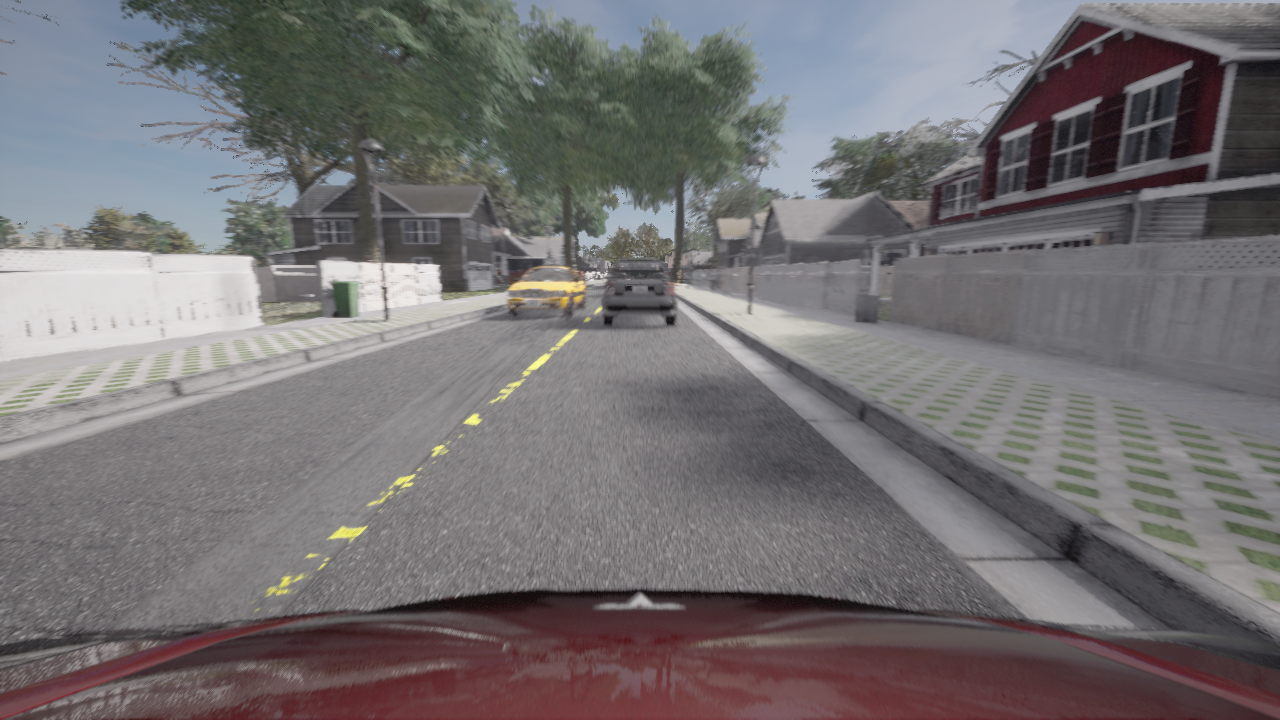cyclist: (0, 588, 1279, 719), (603, 259, 676, 325), (506, 261, 586, 316)
pedestrian: (364, 257, 371, 262)
